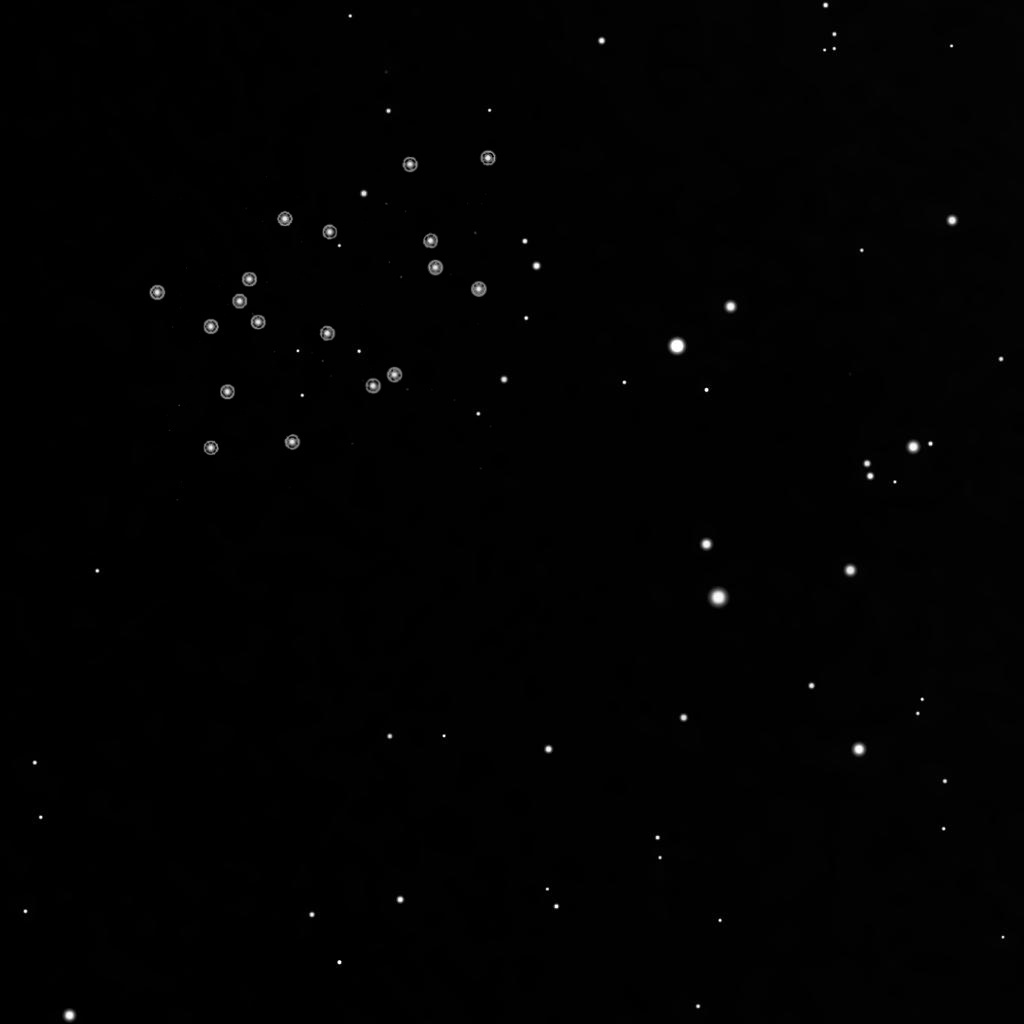canis_major: (197, 206, 340, 340)
